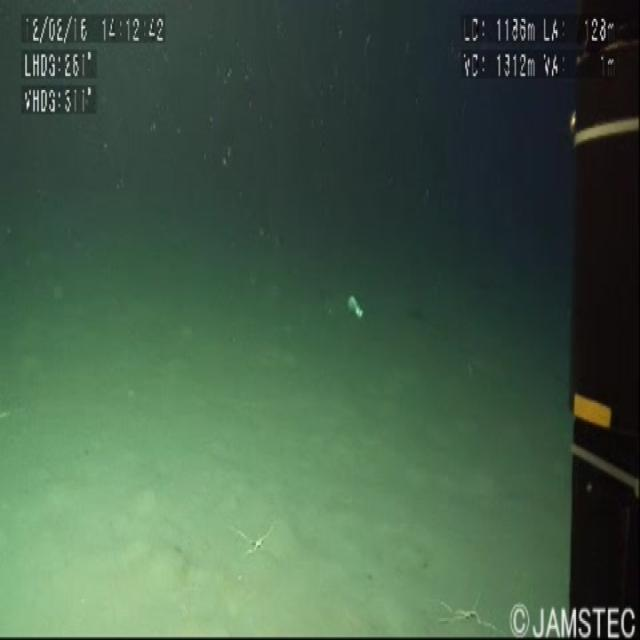Litter: (332, 284, 377, 346)
